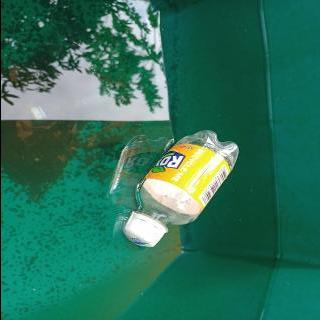bottle: (121, 128, 240, 250)
